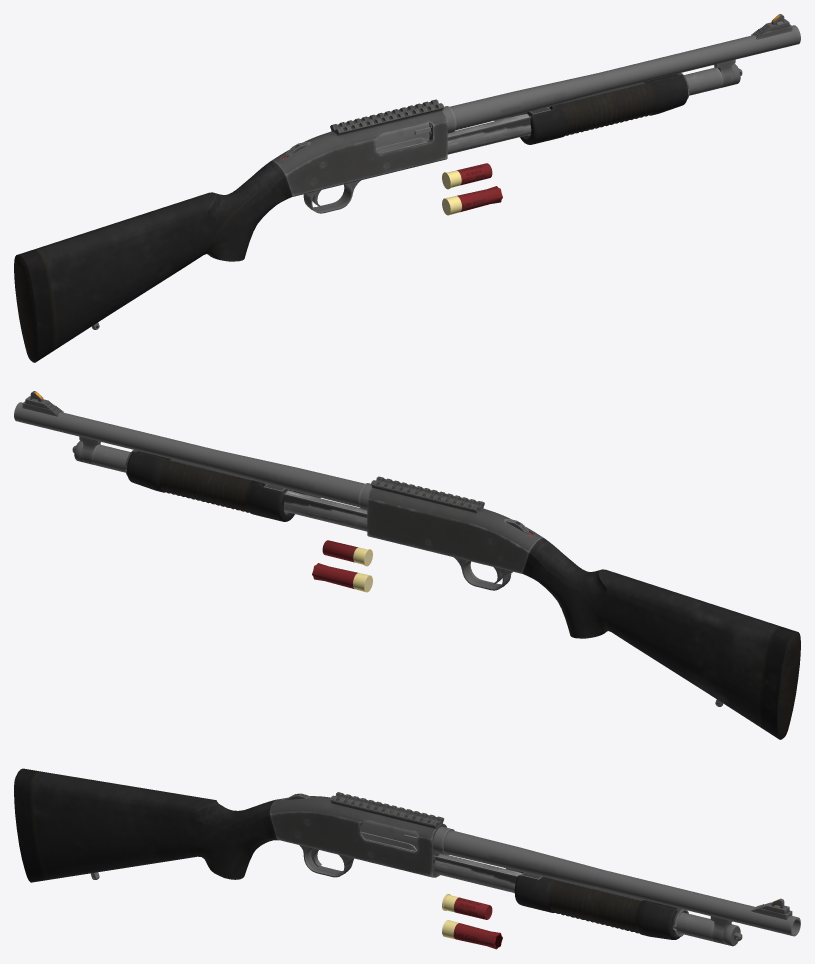
Rendered from shotgun.gltf.
3 renders of one model, top to bottom at view 1: azimuth 30°, elevation 25°; view 2: azimuth 150°, elevation 25°; view 3: azimuth 330°, elevation 25°, orthographic.
Visible parts, largest first — view 1: Stock_low, Mossberg500_low, Forend_low, Tube_low, Cartridge_12GaugeSpent_low, Cartridge_12Gauge_low; view 2: Stock_low, Mossberg500_low, Forend_low, Tube_low, Cartridge_12GaugeSpent_low, Cartridge_12Gauge_low; view 3: Stock_low, Mossberg500_low, Forend_low, Tube_low, Cartridge_12GaugeSpent_low, Cartridge_12Gauge_low.
Part boxes in pixels (bbox=[...]): Stock_low: bbox=[14, 161, 292, 362]; Mossberg500_low: bbox=[271, 14, 800, 213]; Forend_low: bbox=[407, 73, 689, 146]; Tube_low: bbox=[447, 67, 722, 154]; Cartridge_12GaugeSpent_low: bbox=[442, 186, 502, 215]; Cartridge_12Gauge_low: bbox=[442, 163, 492, 189]; Stock_low: bbox=[522, 538, 800, 739]; Mossberg500_low: bbox=[14, 391, 543, 590]; Forend_low: bbox=[125, 450, 367, 521]; Tube_low: bbox=[92, 444, 367, 531]; Cartridge_12GaugeSpent_low: bbox=[312, 563, 372, 592]; Cartridge_12Gauge_low: bbox=[322, 540, 372, 566]; Stock_low: bbox=[14, 768, 278, 882]; Mossberg500_low: bbox=[270, 792, 800, 946]; Forend_low: bbox=[394, 846, 688, 939]; Tube_low: bbox=[434, 854, 714, 941]; Cartridge_12GaugeSpent_low: bbox=[442, 920, 502, 949]; Cartridge_12Gauge_low: bbox=[442, 894, 492, 919].
Bounding box in the file's own units: 1.04 × 0.2114 × 0.0487.
Materials: 6 (6 with a texture image).
